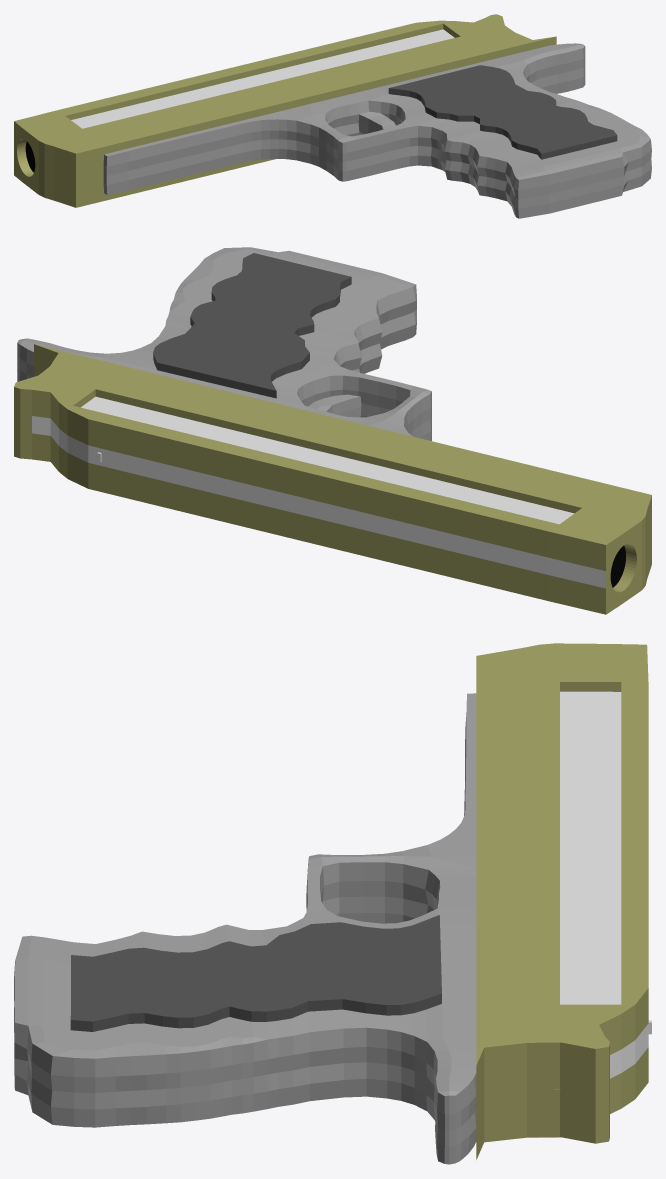
The model's file is Pistol.fbx.
3 views of the same model, one above another, from view 1: azimuth 30°, elevation 25°; view 2: azimuth 150°, elevation 25°; view 3: azimuth 270°, elevation 25° (orthographic). The views are drawn at different scales.
Visible parts, largest first — view 1: Cube, Cube.001; view 2: Cube.001, Cube; view 3: Cube, Cube.001.
Part boxes in pixels (bbox=[...]): Cube: bbox=[103, 43, 651, 218]; Cube.001: bbox=[14, 14, 556, 207]; Cube.001: bbox=[14, 344, 651, 614]; Cube: bbox=[17, 247, 431, 440]; Cube: bbox=[14, 693, 476, 1164]; Cube.001: bbox=[476, 643, 651, 1159].
Size of the model in its own units: 469 by 47.11 by 288.
